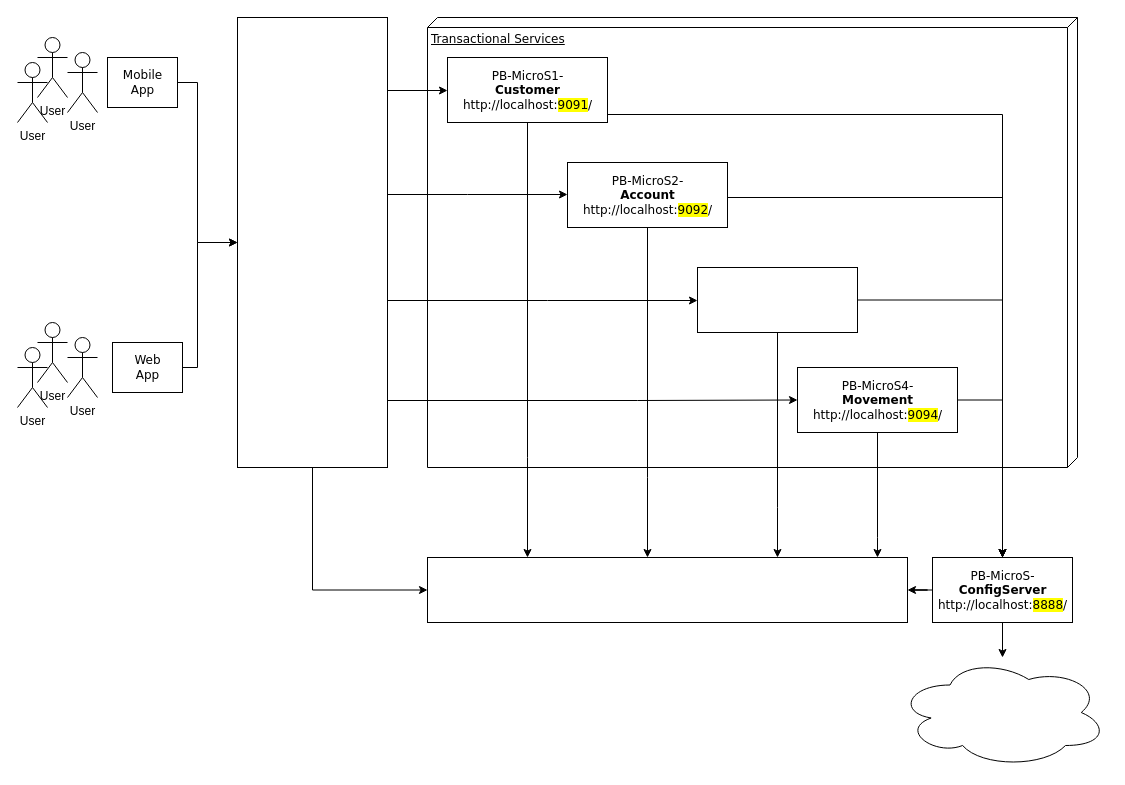
Image size: 1125x785. Some labels were removed from this diagram. The centre of each missing label's shape, as x and y in pixels:
"https://github.com/mendomon/ PB-MicroS-ConfigServer" goes at (1002,712).
"PB-MicroS- APIGateway http://localhost: 9089 /" goes at (312,242).
"PB-MicroS- DiscoveryServer http://localhost: 9090 /eureka/" goes at (667,589).
"PB-MicroS3- Credit http://localhost: 9093 /" goes at (777,299).
